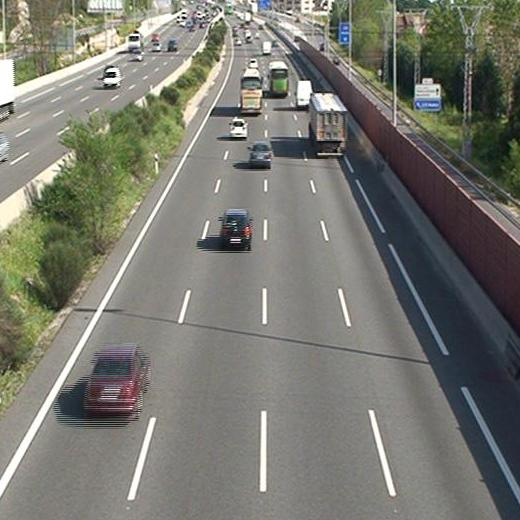bus: (241, 69, 263, 114), (268, 61, 290, 97)
car: (82, 347, 149, 414), (220, 211, 251, 246), (249, 142, 273, 165), (229, 120, 246, 139), (247, 59, 258, 69)
truck: (309, 91, 347, 155)
van: (296, 82, 312, 110), (262, 42, 271, 55)
